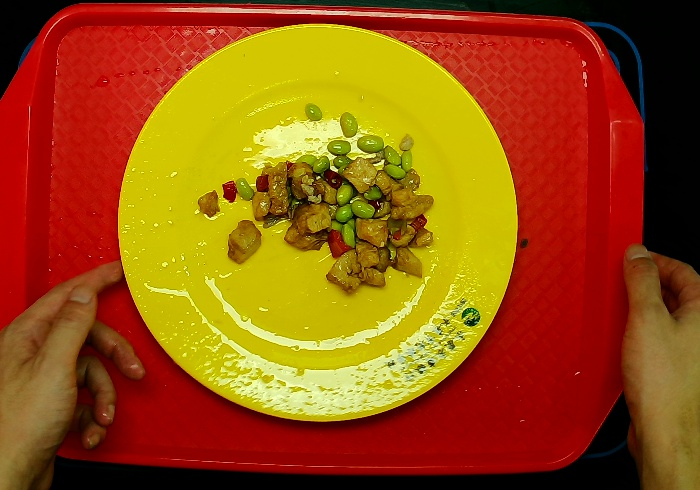YKMZ-Huang_Se_Mian_Pan: (110, 19, 520, 419)
